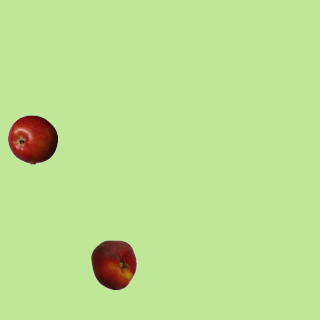Apple Braeburn: (7, 114, 57, 164)
Nectarine Flat: (88, 239, 138, 289)
